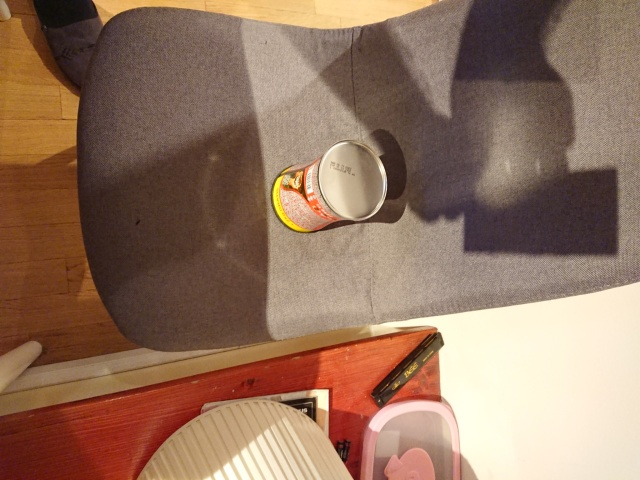Nescafe Classic 225g: (267, 137, 390, 236)
